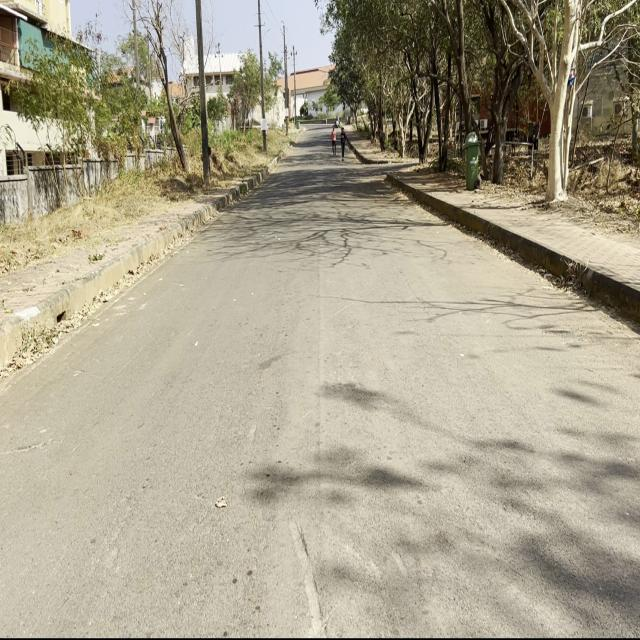Road: (3, 127, 636, 631)
